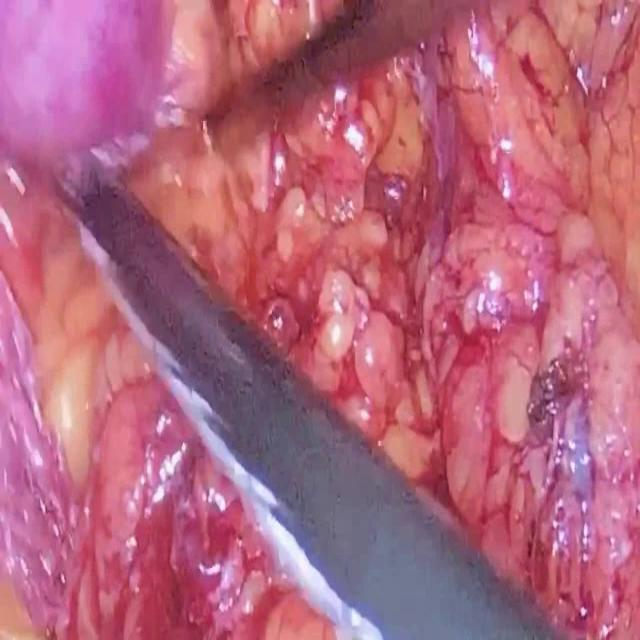surgical-area: (0, 0, 640, 639)
surgical-tool: (43, 140, 576, 639)
